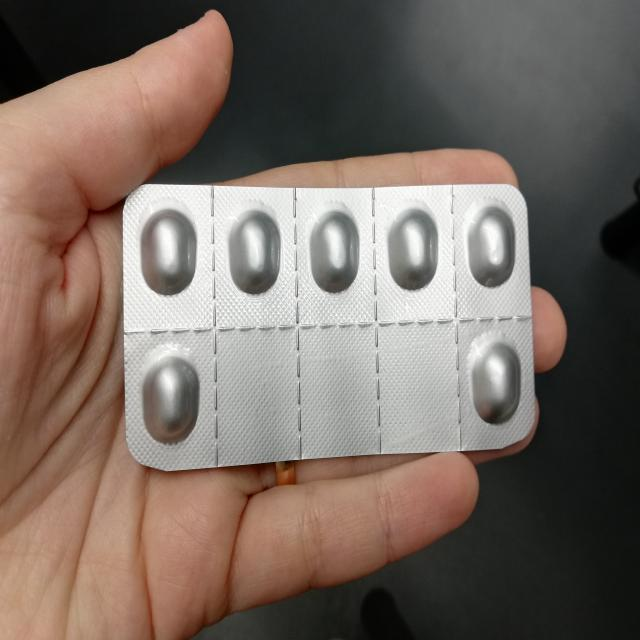Pill: (133, 200, 204, 307), (140, 350, 204, 452), (225, 202, 286, 305), (301, 204, 361, 306), (462, 335, 526, 430), (383, 206, 442, 298), (468, 198, 525, 293)
